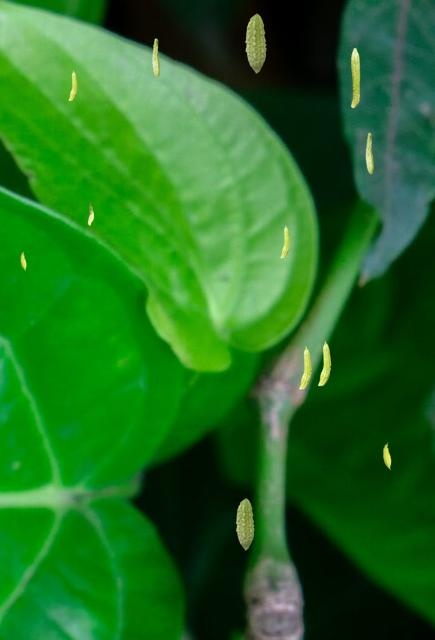ampalaya: (245, 13, 266, 73), (235, 497, 254, 550), (317, 340, 331, 386), (350, 47, 360, 108), (298, 346, 311, 389), (365, 132, 374, 174), (280, 225, 290, 258), (152, 38, 160, 77), (68, 70, 77, 101), (382, 442, 391, 470), (87, 201, 94, 225), (20, 250, 26, 271)
